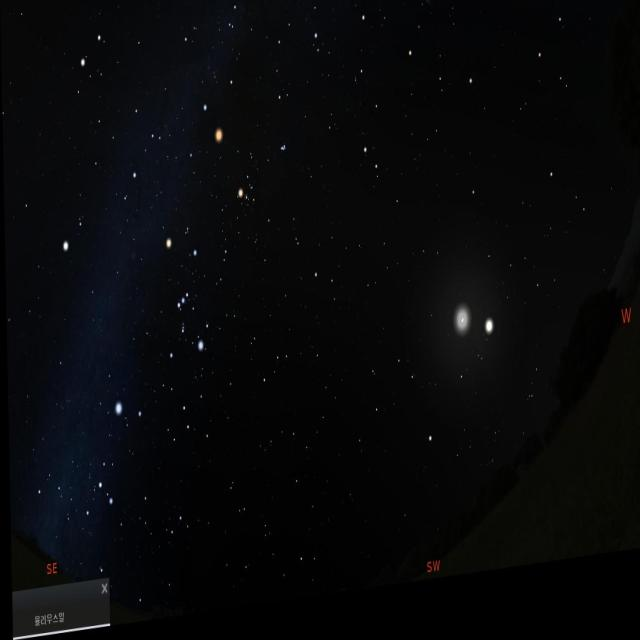canis_major: (96, 392, 146, 509)
canis_minor: (56, 205, 90, 272)
gemini: (70, 9, 160, 194)
moon: (444, 291, 478, 365)
orion: (160, 224, 212, 379)
pleiades: (276, 145, 290, 173)
taurus: (225, 128, 293, 249)
